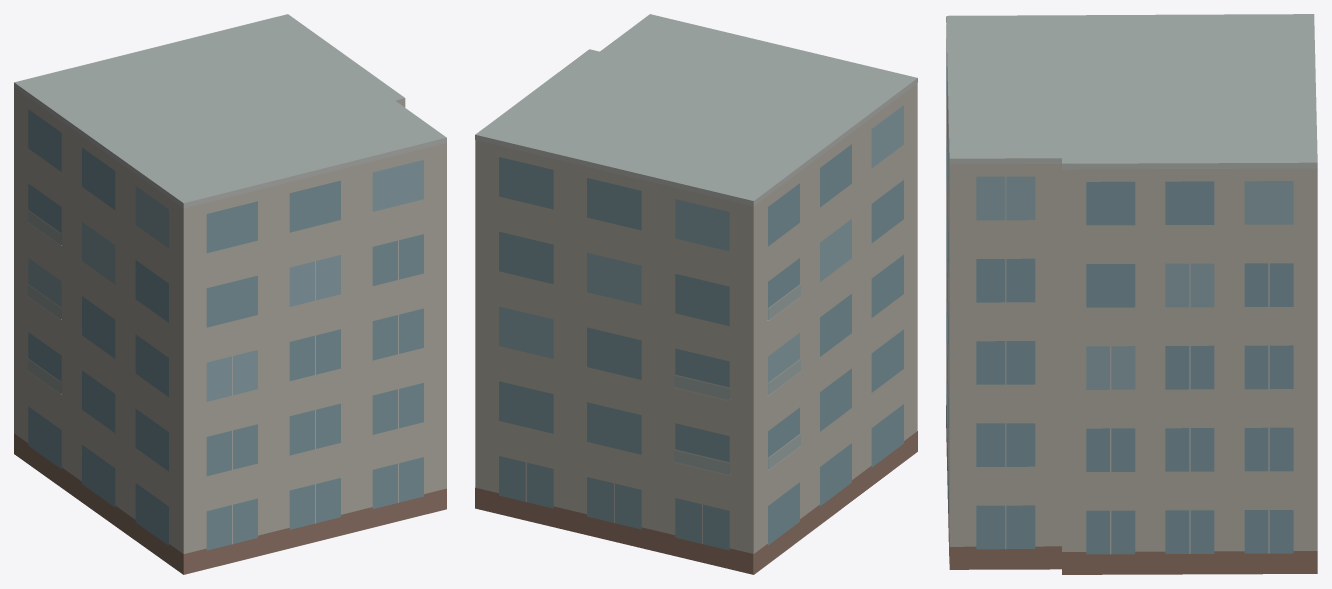
Rendered from survey-upis-32918220.glb.
3 renders of one model, left to right at view 1: azimuth 30°, elevation 25°; view 2: azimuth 150°, elevation 25°; view 3: azimuth 270°, elevation 25°, orthographic. The views are drawn at different scales.
Parts seen in each view (by area): view 1: survey-upis-32918220.tmp; view 2: survey-upis-32918220.tmp; view 3: survey-upis-32918220.tmp.
Boxes of the visible parts, left/top/right/bottom form: survey-upis-32918220.tmp: left=14, top=14, right=446, bottom=574; survey-upis-32918220.tmp: left=475, top=14, right=917, bottom=574; survey-upis-32918220.tmp: left=946, top=14, right=1317, bottom=574.
Size of the model in its own units: 13.62 by 17.4 by 14.26.
